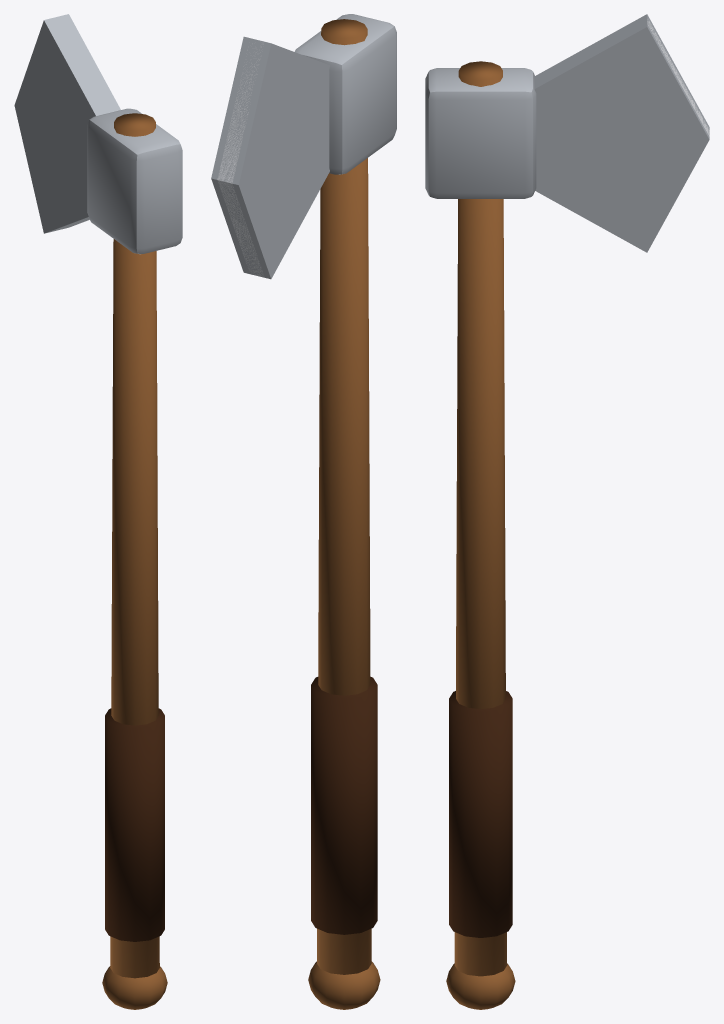
Rendered from axe.glb.
3 renders of one model, left to right at view 1: azimuth 30°, elevation 25°; view 2: azimuth 150°, elevation 25°; view 3: azimuth 270°, elevation 25°, orthographic. The views are drawn at different scales.
Parts seen in each view (by area): view 1: Axe; view 2: Axe; view 3: Axe.
Part boxes in pixels (<box>): Axe: <box>14,14,182,1009</box>; Axe: <box>211,14,396,1009</box>; Axe: <box>425,14,709,1009</box>.
Bounding box in the file's own units: 0.05 × 0.785 × 0.205.
